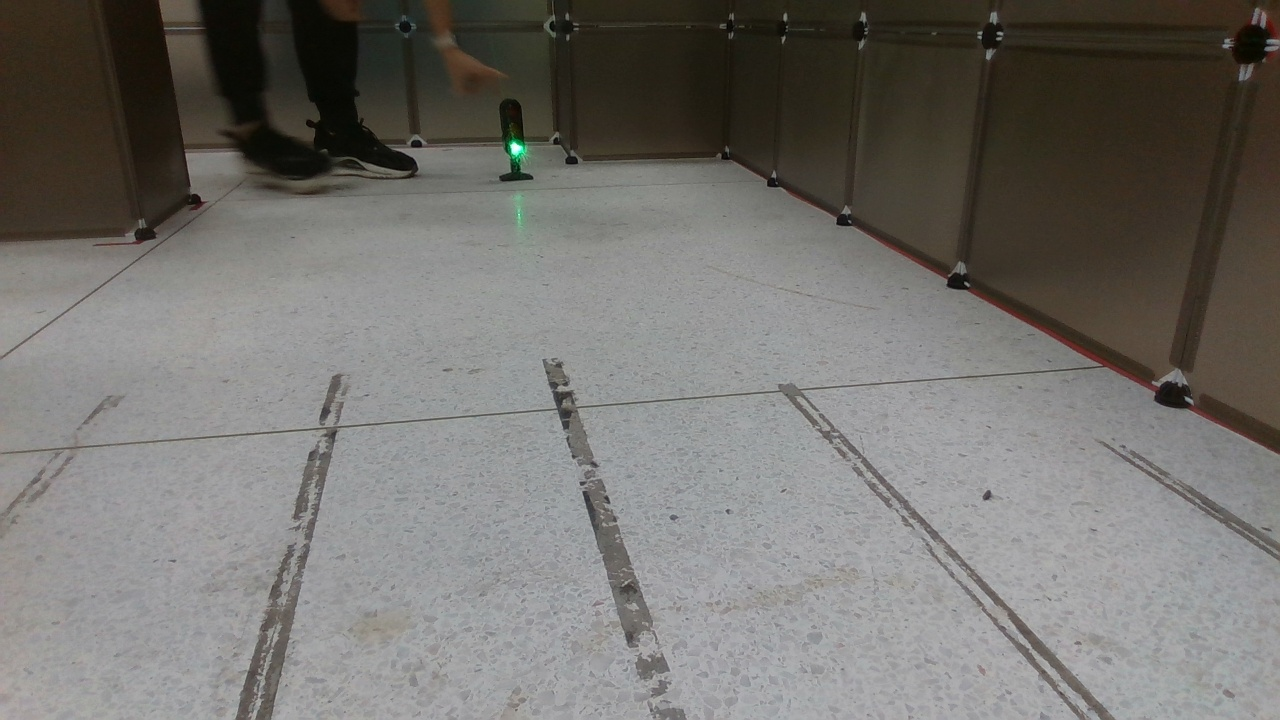Green traffic light: (494, 98, 536, 182)
